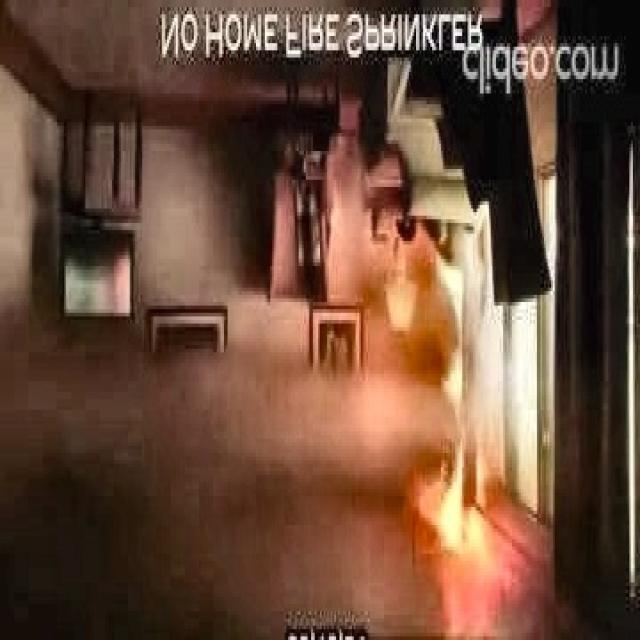fire: (406, 259, 520, 640)
